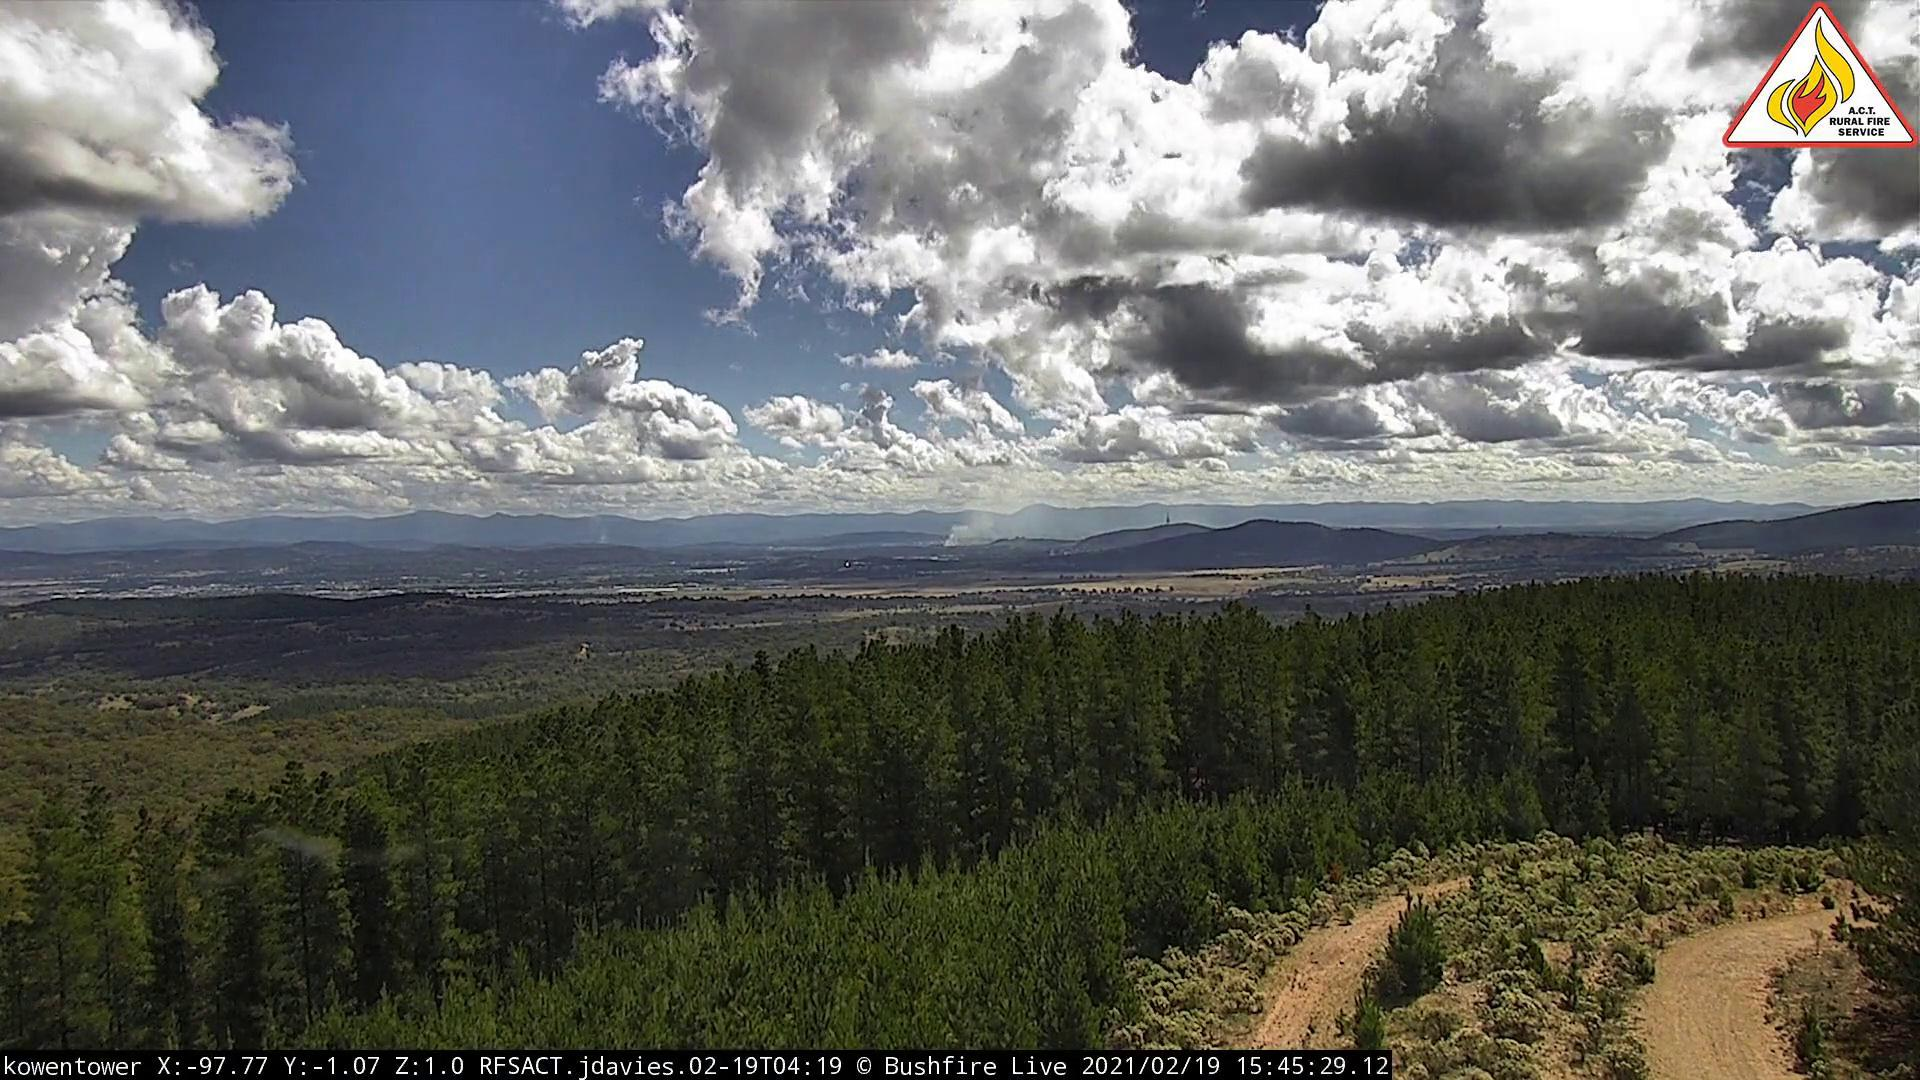Smoke: (942, 505, 1011, 551), (597, 525, 618, 554)
